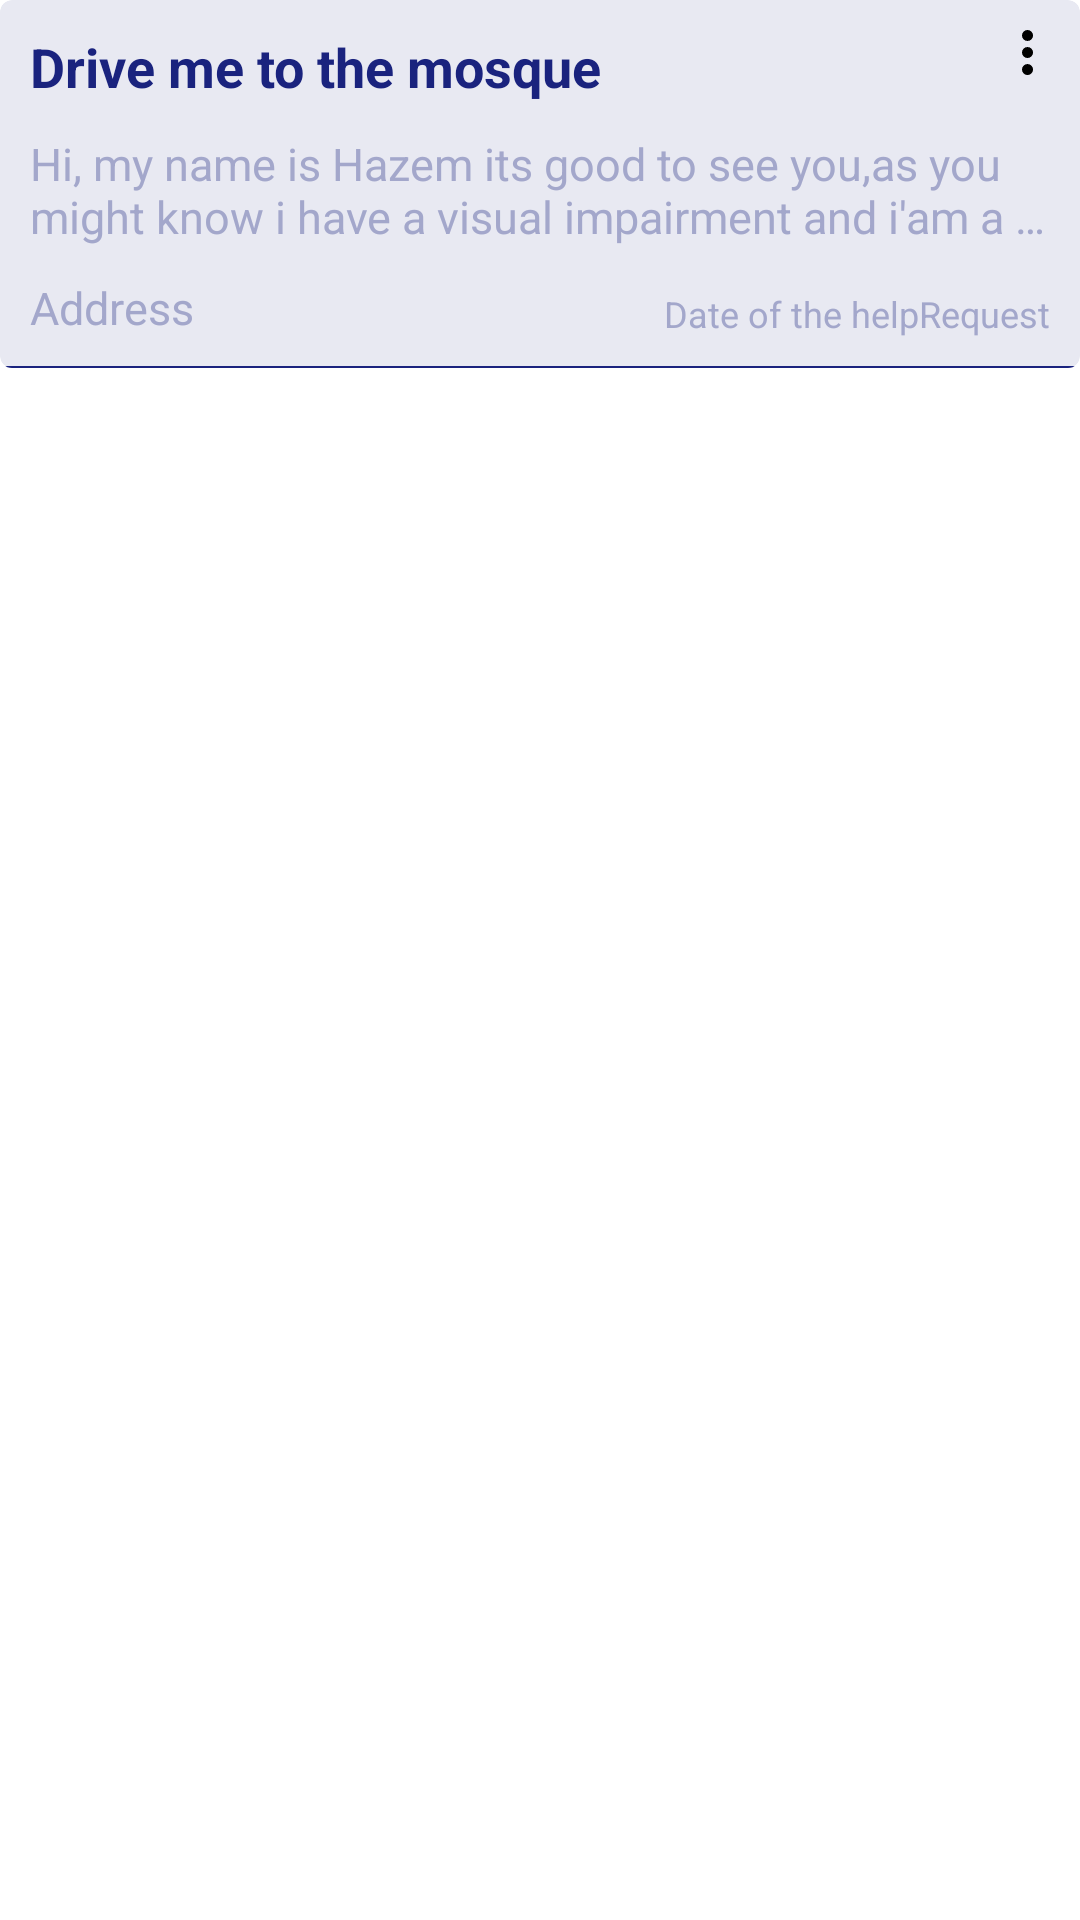

Where to tap for icons on this 1080px×1920px app screen, as point (x, y):
options: point (1027, 52)
